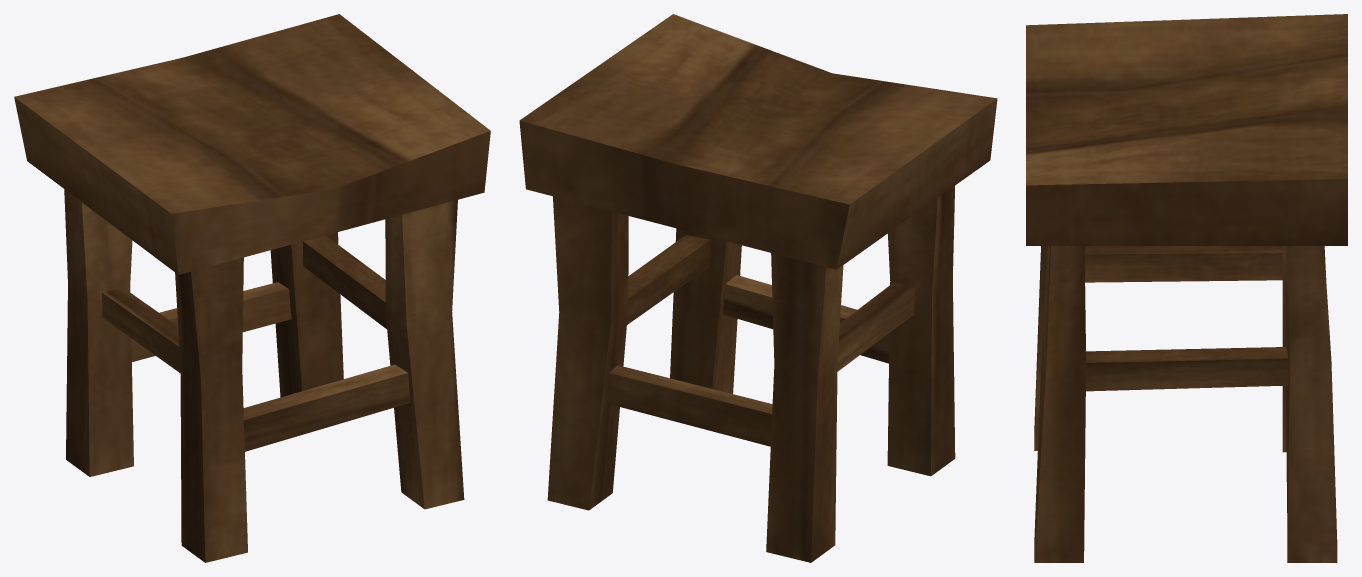
File: stool_bar.fbx
The picture shows the model from 3 angles, left to right: view 1: azimuth 30°, elevation 25°; view 2: azimuth 150°, elevation 25°; view 3: azimuth 270°, elevation 25°; orthographic projection. The views are drawn at different scales.
Visible parts, largest first — view 1: barstool_seat, barstool_leg05, barstool_leg02, barstool_leg06, barstool_leg04, barstool_bar02, barstool_bar01, barstool_bar03, barstool_bar04; view 2: barstool_seat, barstool_leg04, barstool_leg06, barstool_leg02, barstool_leg05, barstool_bar04, barstool_bar01, barstool_bar03, barstool_bar02; view 3: barstool_seat, barstool_leg04, barstool_leg05, barstool_bar01, barstool_bar03, barstool_leg02, barstool_leg06.
Part boxes in pixels (x1,y1,x2,y2): barstool_seat: [14, 14, 490, 274]; barstool_leg05: [385, 200, 464, 509]; barstool_leg02: [175, 257, 247, 562]; barstool_leg06: [64, 189, 133, 476]; barstool_leg04: [270, 232, 343, 397]; barstool_bar02: [243, 364, 410, 451]; barstool_bar01: [303, 235, 386, 328]; barstool_bar03: [102, 287, 180, 373]; barstool_bar04: [131, 282, 291, 361]; barstool_seat: [519, 14, 997, 269]; barstool_leg04: [547, 196, 628, 510]; barstool_leg06: [766, 253, 843, 562]; barstool_leg02: [887, 186, 955, 476]; barstool_leg05: [670, 228, 741, 393]; barstool_bar04: [606, 365, 772, 446]; barstool_bar01: [627, 234, 710, 324]; barstool_bar03: [837, 282, 914, 371]; barstool_bar02: [723, 275, 889, 363]; barstool_seat: [1026, 14, 1347, 245]; barstool_leg04: [1285, 246, 1337, 562]; barstool_leg05: [1034, 246, 1086, 562]; barstool_bar01: [1086, 347, 1288, 391]; barstool_bar03: [1085, 246, 1282, 282]; barstool_leg02: [1034, 246, 1084, 450]; barstool_leg06: [1282, 246, 1326, 452].
Bounding box in the file's own units: 138 × 151 × 111.
Materials: 1 (1 with a texture image).
